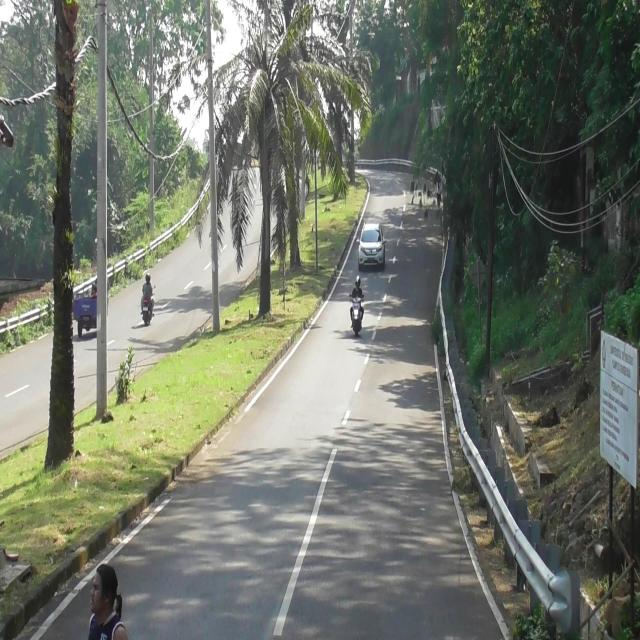motorcycle: (351, 298, 364, 339), (144, 298, 153, 324)
person: (350, 274, 366, 302), (140, 274, 153, 300)
rider_region: (349, 273, 365, 338), (140, 274, 154, 322)
